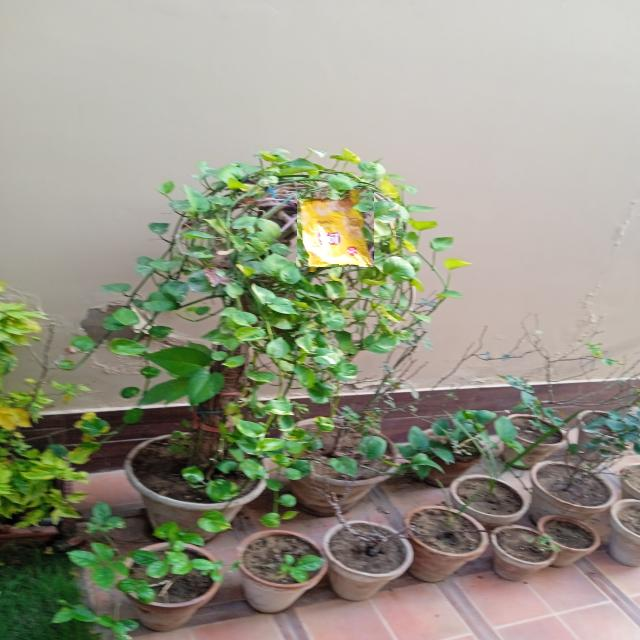Plastic: (296, 189, 374, 267)
